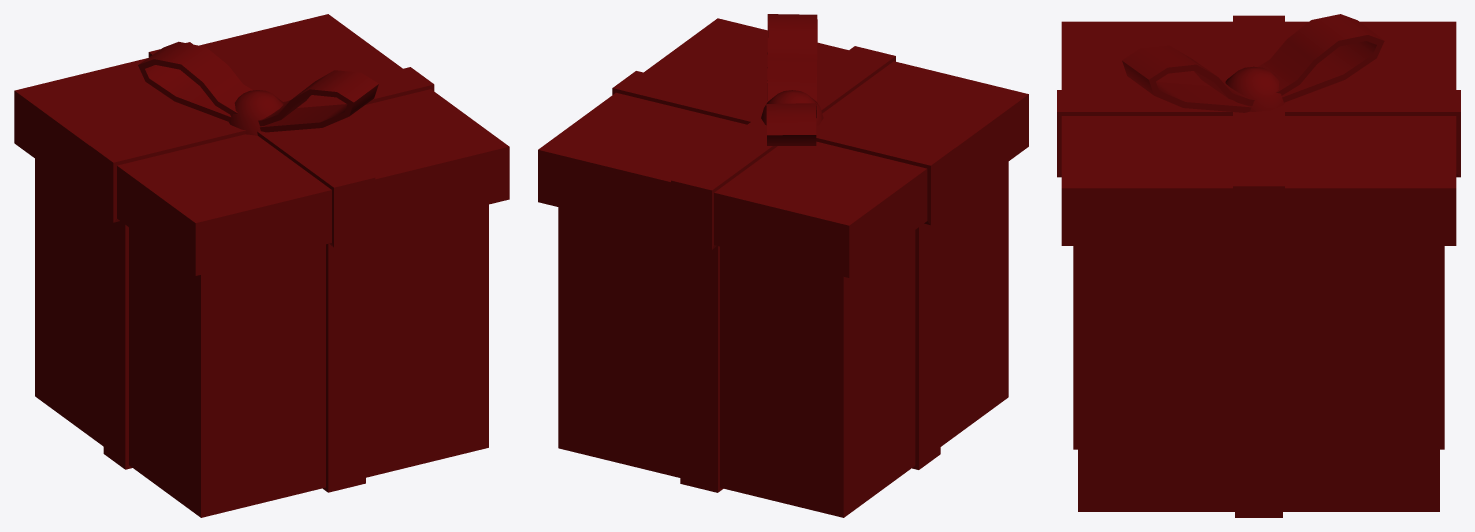
File: P_KDO_01.FBX
The picture shows the model from 3 angles, left to right: view 1: azimuth 30°, elevation 25°; view 2: azimuth 150°, elevation 25°; view 3: azimuth 270°, elevation 25°; orthographic projection. The views are drawn at different scales.
Parts seen in each view (by area): view 1: P_KDO_01; view 2: P_KDO_01; view 3: P_KDO_01.
Part boxes in pixels (bbox=[...]): P_KDO_01: bbox=[14, 14, 509, 517]; P_KDO_01: bbox=[538, 14, 1028, 517]; P_KDO_01: bbox=[1057, 14, 1460, 517].
Size of the model in its own units: 44.61 by 49.07 by 44.61.
